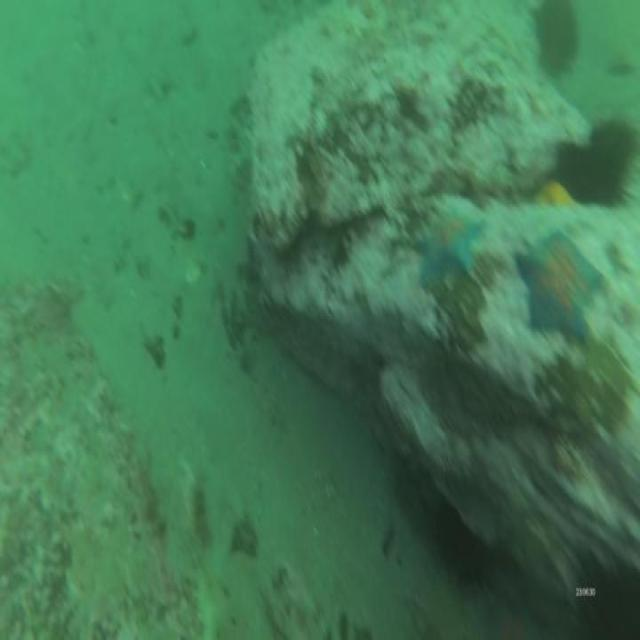echinus: (560, 130, 637, 212), (533, 2, 583, 79)
starfish: (513, 220, 605, 344), (408, 198, 489, 292)
